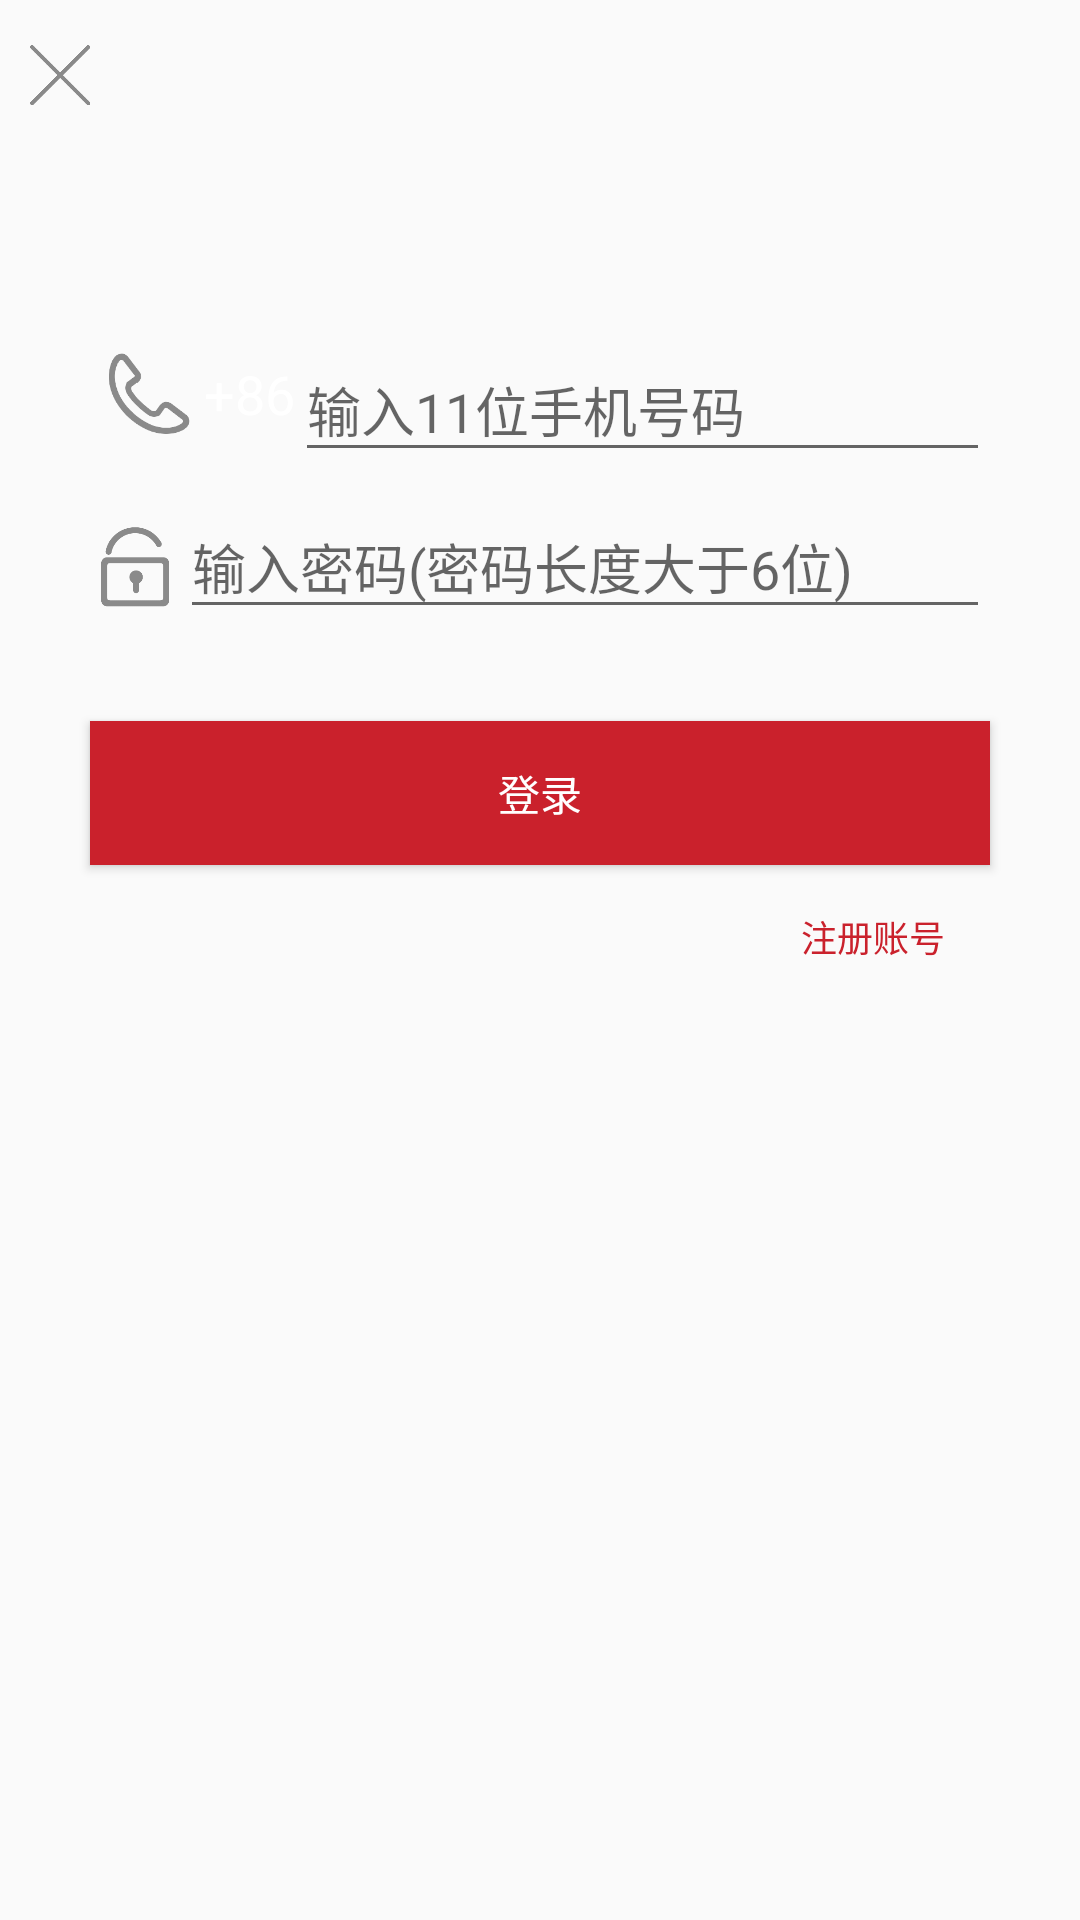

Where icons sit on this 1080px×1920px app screen, as (x1, y1, x2, y2):
passwordlock: (101, 527, 169, 607)
phone: (109, 353, 190, 434)
